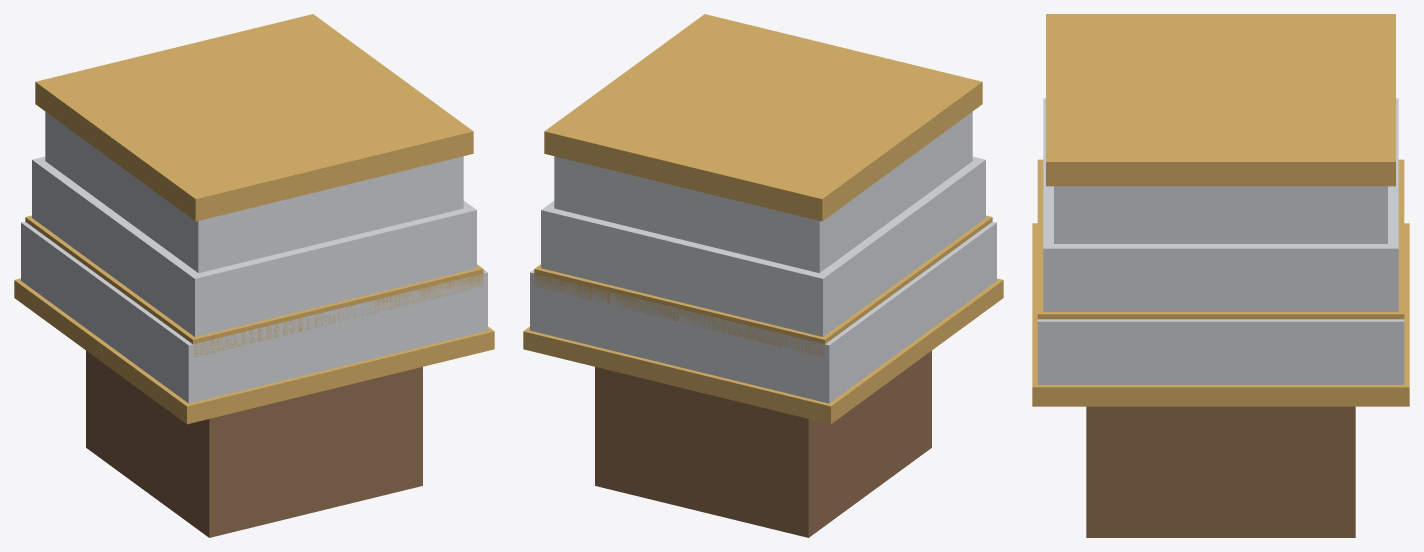
Rendered from armadura_ombro.glb.
3 views of the same model, side by side, from view 1: azimuth 30°, elevation 25°; view 2: azimuth 150°, elevation 25°; view 3: azimuth 270°, elevation 25° (orthographic). The views are drawn at different scales.
Parts seen in each view (by area): view 1: armadura_ombro; view 2: armadura_ombro; view 3: armadura_ombro.
Boxes of the visible parts, bbox=[...] form: armadura_ombro: bbox=[14, 14, 494, 537]; armadura_ombro: bbox=[523, 14, 1003, 537]; armadura_ombro: bbox=[1032, 14, 1409, 537].
Bounding box in the file's own units: 0.36 × 0.4025 × 0.35.
